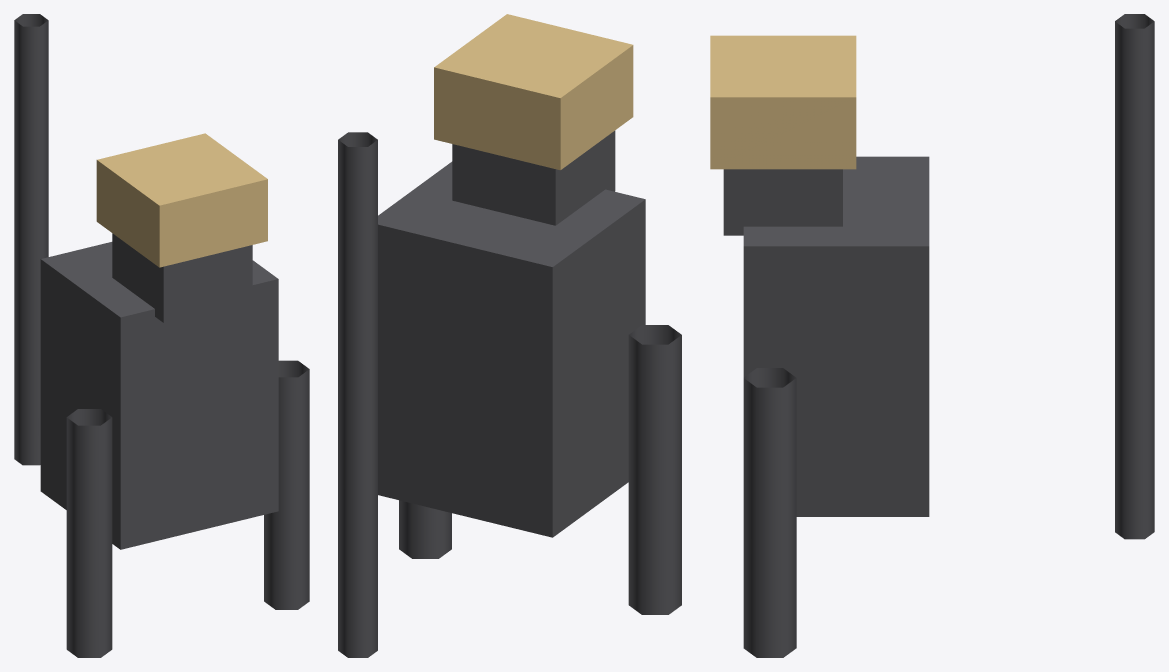
The model's file is nilgiri-langur.glb.
3 views of the same model, side by side, from view 1: azimuth 30°, elevation 25°; view 2: azimuth 150°, elevation 25°; view 3: azimuth 270°, elevation 25° (orthographic). The views are drawn at different scales.
Visible parts, largest first — view 1: Torso_Node, ManeCrown_Node, Tail_Node, Arm_L_Node, Arm_R_Node, Head_Node; view 2: Torso_Node, ManeCrown_Node, Tail_Node, Arm_L_Node, Head_Node, Arm_R_Node; view 3: Torso_Node, Tail_Node, ManeCrown_Node, Arm_R_Node, Head_Node.
Boxes of the visible parts, x1=… form: Torso_Node: x1=40, y1=242, x2=278, y2=549; ManeCrown_Node: x1=96, y1=133, x2=267, y2=267; Tail_Node: x1=14, y1=14, x2=48, y2=465; Arm_L_Node: x1=66, y1=409, x2=112, y2=657; Arm_R_Node: x1=264, y1=360, x2=309, y2=609; Head_Node: x1=112, y1=233, x2=252, y2=322; Torso_Node: x1=378, y1=161, x2=645, y2=537; ManeCrown_Node: x1=434, y1=14, x2=633, y2=170; Tail_Node: x1=338, y1=132, x2=377, y2=657; Arm_L_Node: x1=628, y1=325, x2=681, y2=614; Head_Node: x1=452, y1=130, x2=615, y2=225; Arm_R_Node: x1=399, y1=500, x2=451, y2=558; Torso_Node: x1=743, y1=156, x2=929, y2=516; Tail_Node: x1=1115, y1=14, x2=1154, y2=539; ManeCrown_Node: x1=710, y1=35, x2=856, y2=169; Arm_R_Node: x1=743, y1=368, x2=796, y2=657; Head_Node: x1=723, y1=169, x2=842, y2=235.
Bounding box in the file's own units: 0.4693 × 0.95 × 0.67.
